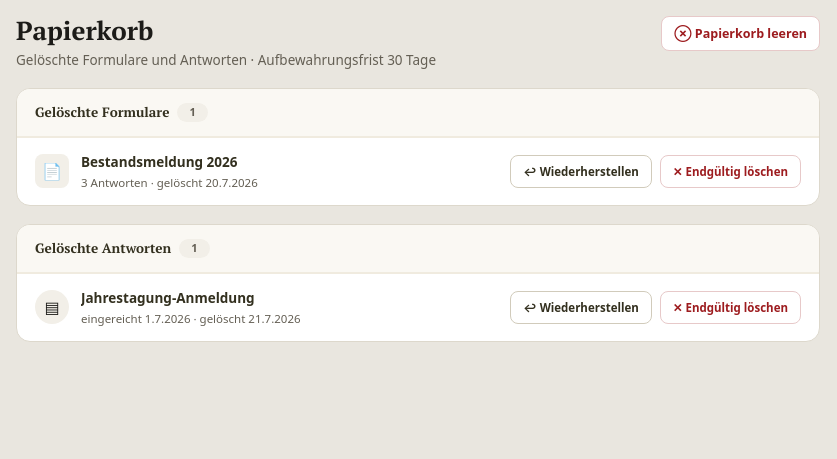
TrashView › mit canPurge › falls back to its own sentence when Papierkorb leeren fails with a 500
The image size is (837, 459).
Expected: the text "Bestandsmeldung 2026" is shown, x1=81 y1=153 x2=238 y2=171
What coordinates should you click on to do the following:
click the button "⊗ Papierkorb leeren"
I would click on:
 (741, 34)
Its box is x1=661 y1=16 x2=820 y2=51.
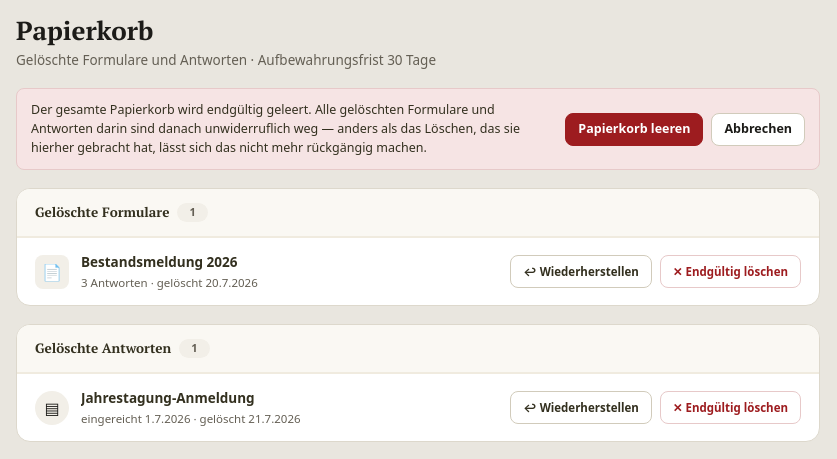
What coordinates should you click on to do the following:
click the button "Papierkorb leeren"
I would click on:
 (634, 129)
Its box is x1=565 y1=113 x2=703 y2=146.
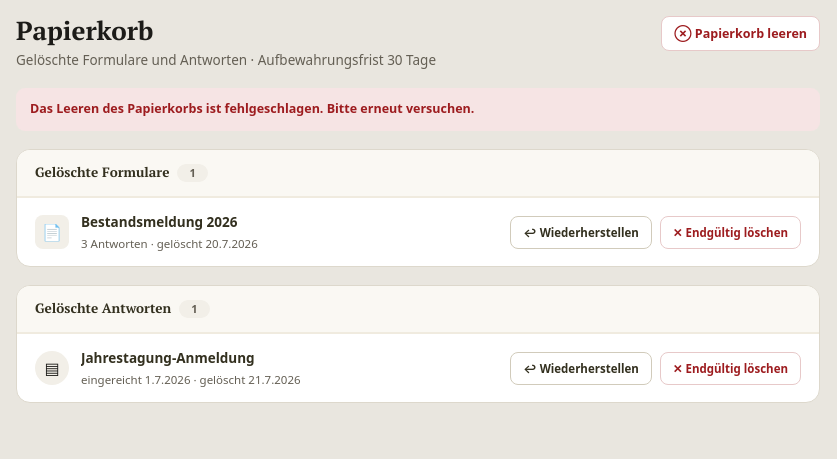
Expected: the message with test id "trash-empty-error" shows "Das Leeren des Papierkorbs ist fehlgeschlagen", x1=30 y1=100 x2=474 y2=117
Expected: the text "nicht mehr rückgängig machen" is gone
Expected: the button "⊗ Papierkorb leeren" is shown, x1=661 y1=16 x2=820 y2=51
